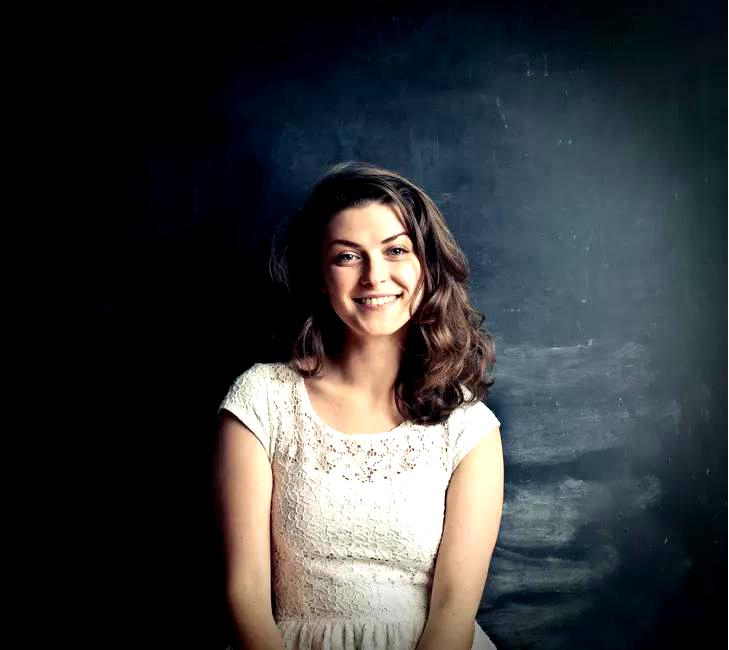face: (321, 204, 422, 333)
